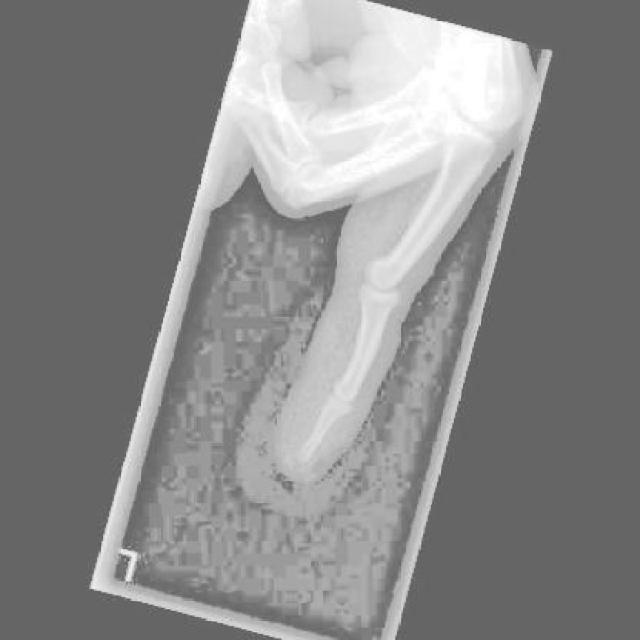Fracture: (302, 430, 328, 459)
